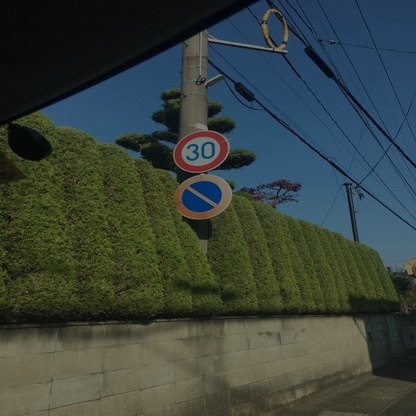Prohibition_sign: (173, 173, 238, 217)
Speed_sign: (168, 129, 236, 176)
